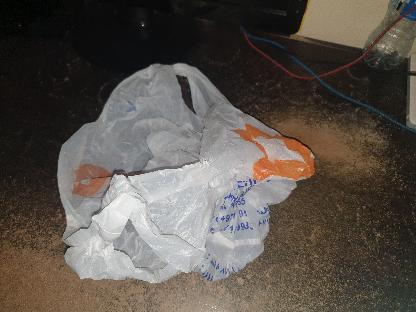Plastic Bag: (56, 61, 316, 281)
